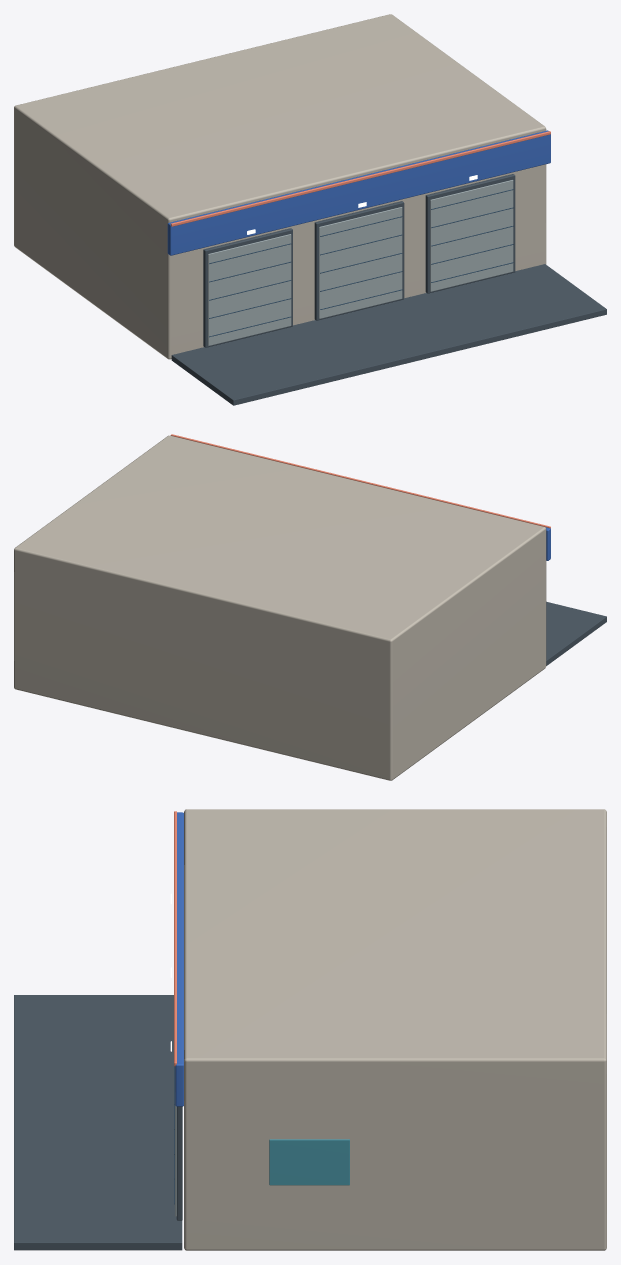
File: HL_Building_RepairGarage.fbx
3 views of the same model, one above another, from view 1: azimuth 30°, elevation 25°; view 2: azimuth 150°, elevation 25°; view 3: azimuth 270°, elevation 25° (orthographic). The views are drawn at different scales.
Visible parts, largest first — view 1: Garage | service shop shell, Garage | forecourt pad, Garage | broad cobalt fascia, Garage | roller door, Garage | roller door.002, Garage | roller door.001, Garage | coral roofline, Garage | dark service bay.002, Garage | dark service bay.001, Garage | dark service bay; view 2: Garage | service shop shell, Garage | forecourt pad, Garage | coral roofline; view 3: Garage | service shop shell, Garage | forecourt pad, Garage | side office window, Garage | broad cobalt fascia, Garage | dark service bay.002, Garage | coral roofline.
Part boxes in pixels (x1,y1,x2,y2): Garage | service shop shell: [14, 14, 546, 359]; Garage | forecourt pad: [171, 264, 606, 405]; Garage | broad cobalt fascia: [167, 130, 550, 255]; Garage | roller door: [208, 234, 291, 345]; Garage | roller door.002: [430, 180, 513, 291]; Garage | roller door.001: [319, 207, 402, 318]; Garage | coral roofline: [170, 131, 550, 226]; Garage | dark service bay.002: [425, 174, 515, 293]; Garage | dark service bay.001: [314, 201, 404, 320]; Garage | dark service bay: [203, 228, 292, 347]; Garage | service shop shell: [14, 435, 546, 780]; Garage | forecourt pad: [546, 601, 606, 665]; Garage | coral roofline: [170, 434, 550, 528]; Garage | service shop shell: [184, 809, 606, 1250]; Garage | forecourt pad: [14, 995, 182, 1250]; Garage | side office window: [269, 1139, 349, 1185]; Garage | broad cobalt fascia: [175, 812, 183, 1106]; Garage | dark service bay.002: [176, 1106, 182, 1220]; Garage | coral roofline: [174, 811, 176, 1066].
Size of the model in its own units: 1572 by 558 by 1556.
